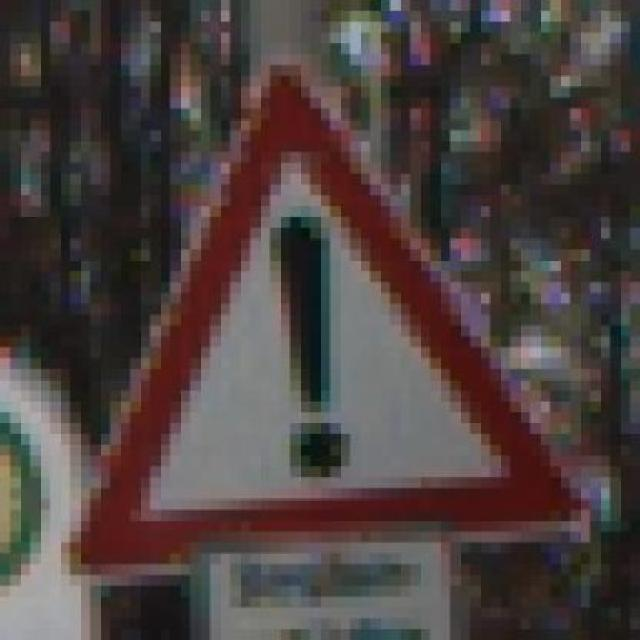Attention Please-: (60, 32, 600, 608)
